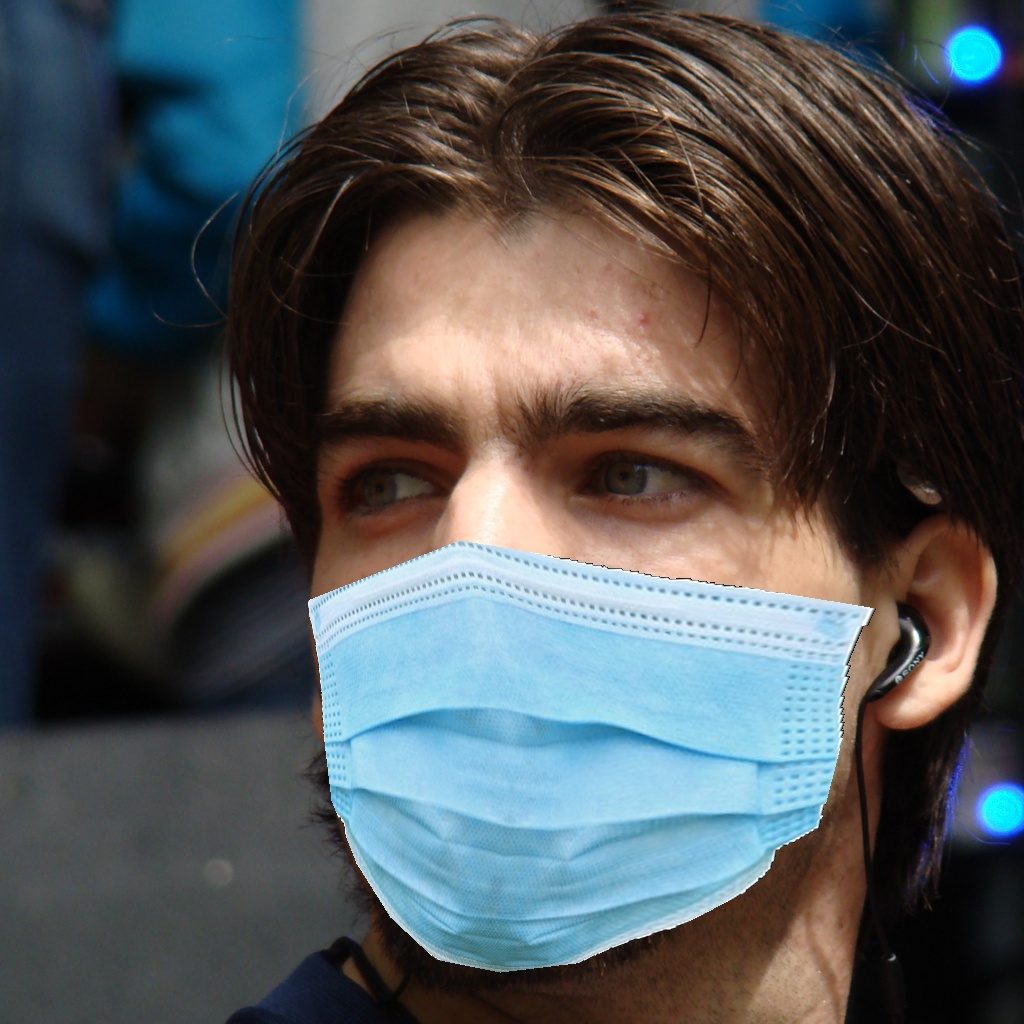with_mask: (300, 417, 857, 985)
